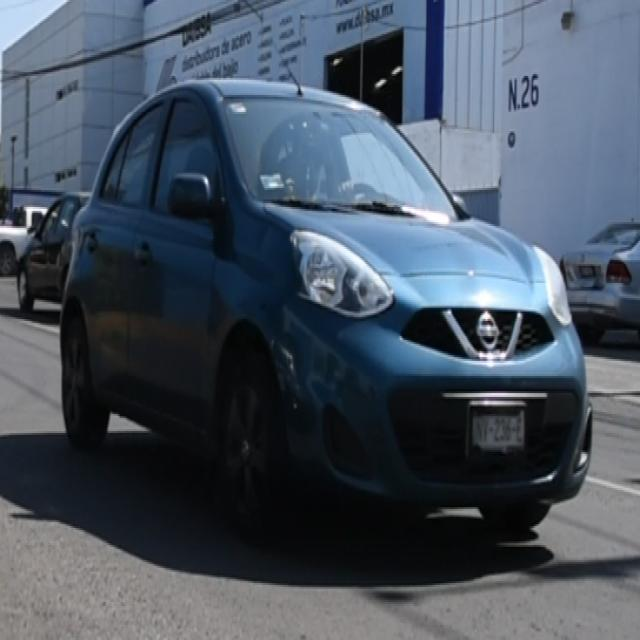placa: (473, 411, 526, 447)
